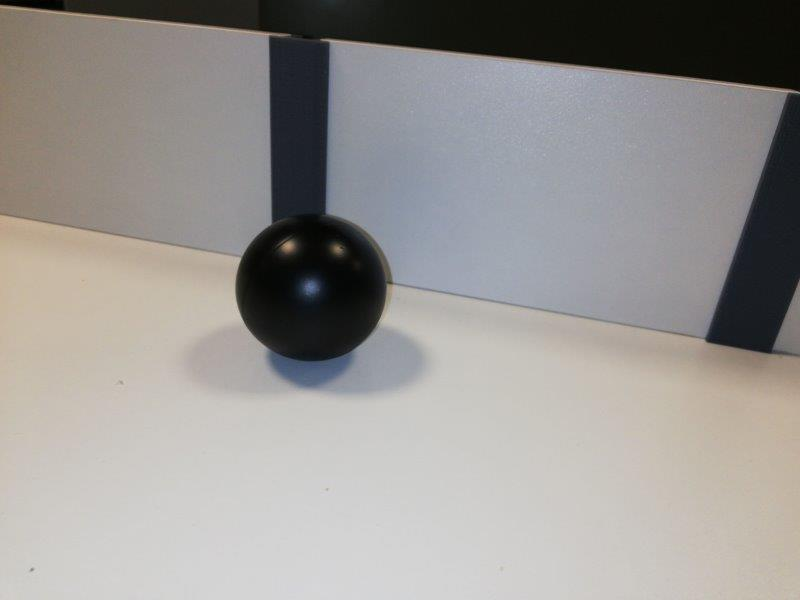nera: (235, 215, 385, 362)
